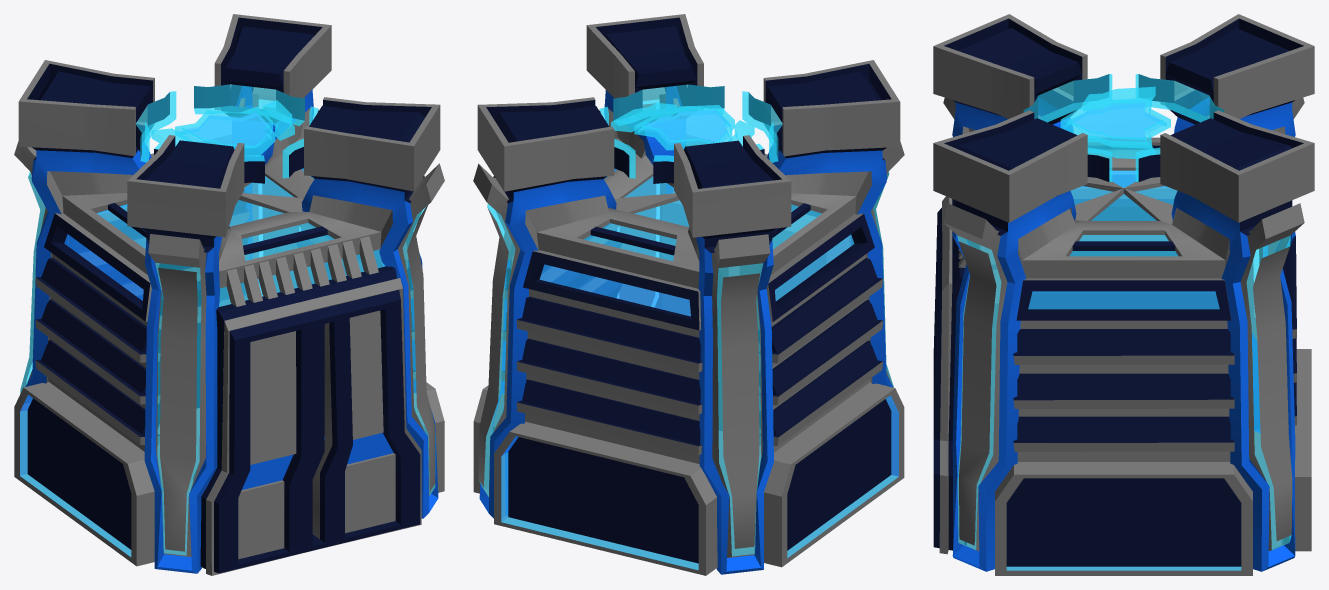
File: birim kule2.fbx
3 renders of one model, left to right at view 1: azimuth 30°, elevation 25°; view 2: azimuth 150°, elevation 25°; view 3: azimuth 270°, elevation 25°, orthographic. The views are drawn at different scales.
Visible parts, largest first — view 1: seviye 2; view 2: seviye 2; view 3: seviye 2.
Part boxes in pixels (x1,y1,x2,y2): seviye 2: (14, 14, 444, 575); seviye 2: (473, 14, 904, 575); seviye 2: (933, 14, 1314, 575).
Size of the model in its own units: 243 by 285 by 243.
